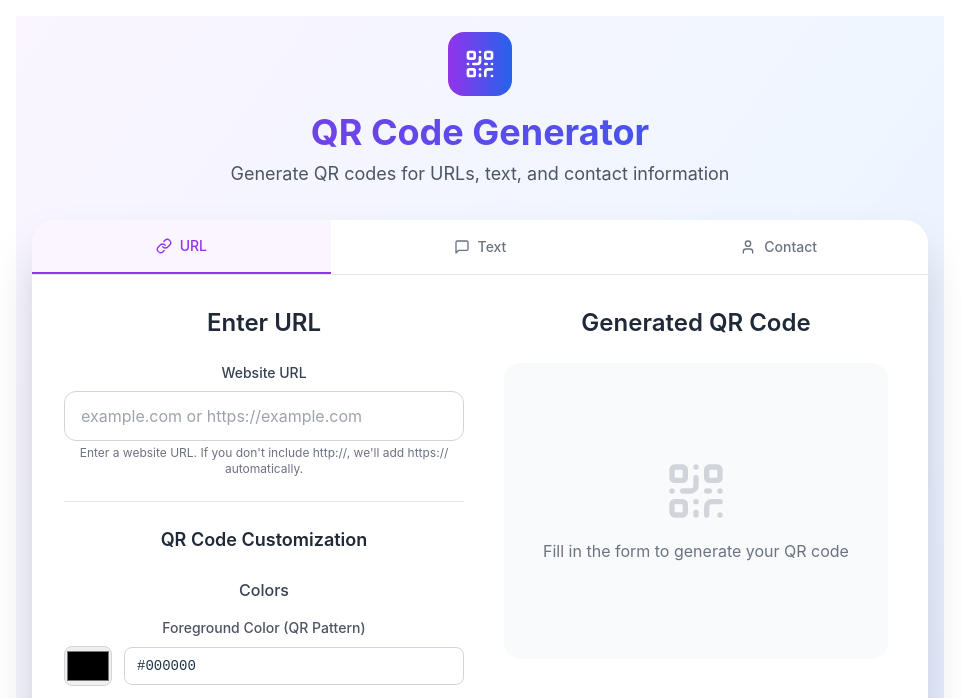
Test: QRCodeGenerator Integration Tests › URL Tab › should generate QR code when URL is entered
The image size is (961, 698).
Type "example.com" into the field with placeholder "example.com or https://example.com".
click(264, 416); type("example.com")  # box 64,391 -> 464,441
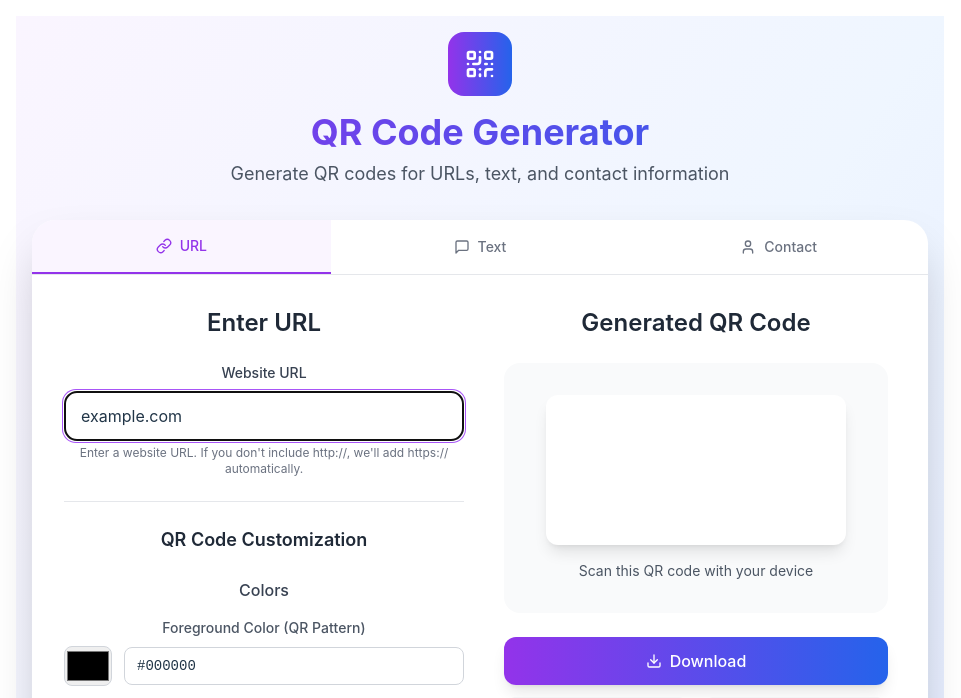
Expected: the text "Fill in the form to generate your QR code" is gone
